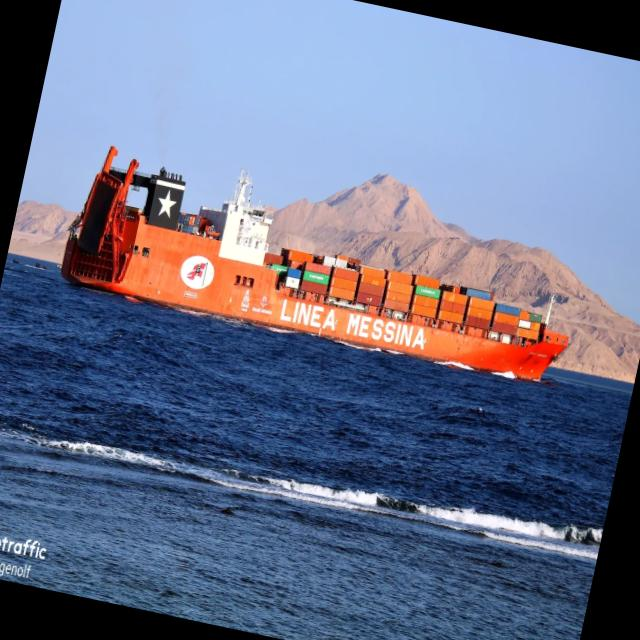Cargo: (61, 146, 567, 379)
